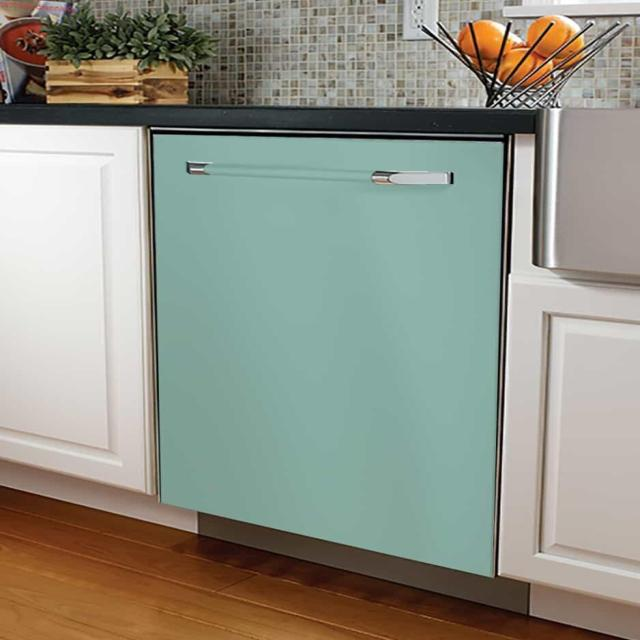dishwasher: (130, 97, 537, 601)
